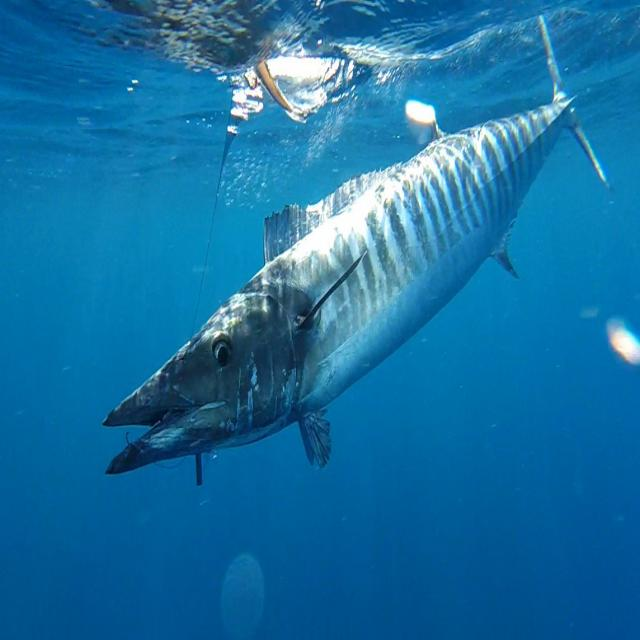Wahoo: (100, 11, 613, 477)
